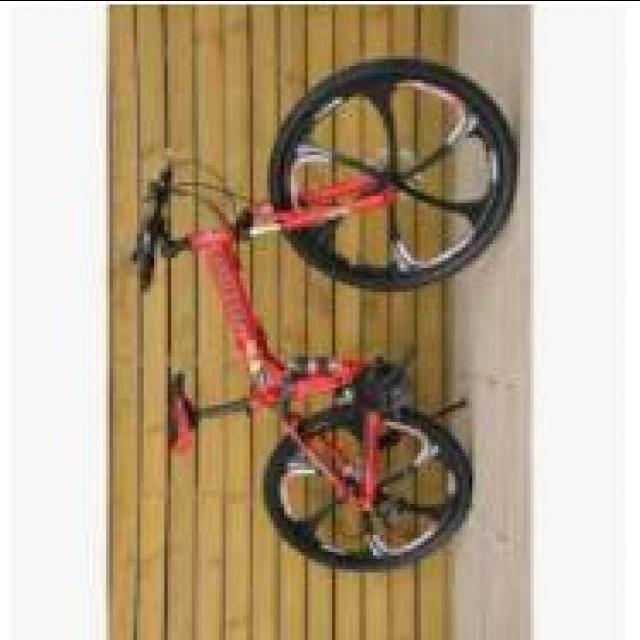bicycle: (145, 59, 518, 545)
